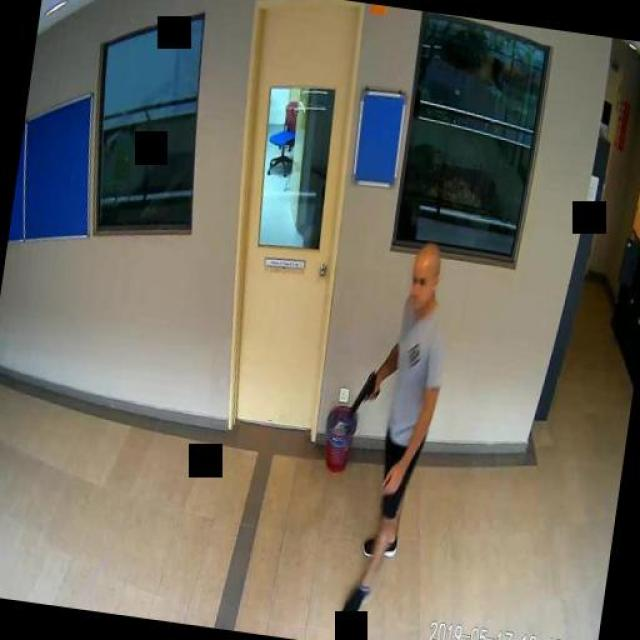gun: (349, 366, 381, 415)
